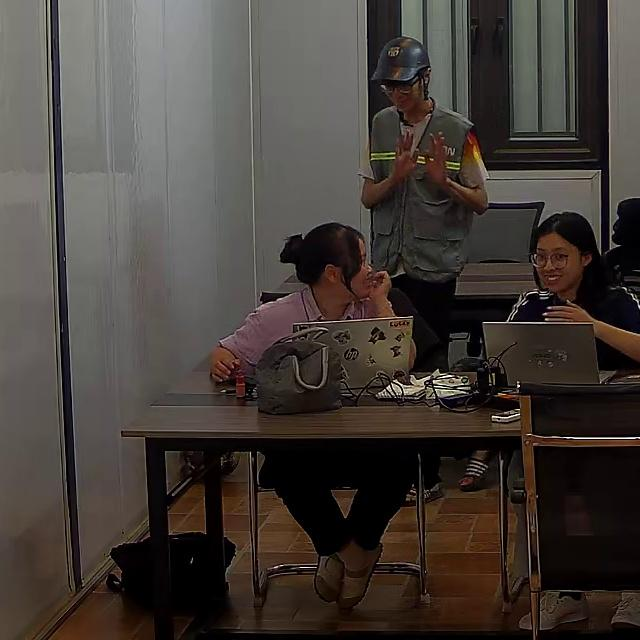helmet: (369, 35, 432, 84)
no_helmet: (529, 212, 608, 299), (286, 222, 364, 295)
none: (217, 287, 367, 377), (505, 283, 637, 372)
vest: (359, 103, 487, 282)
